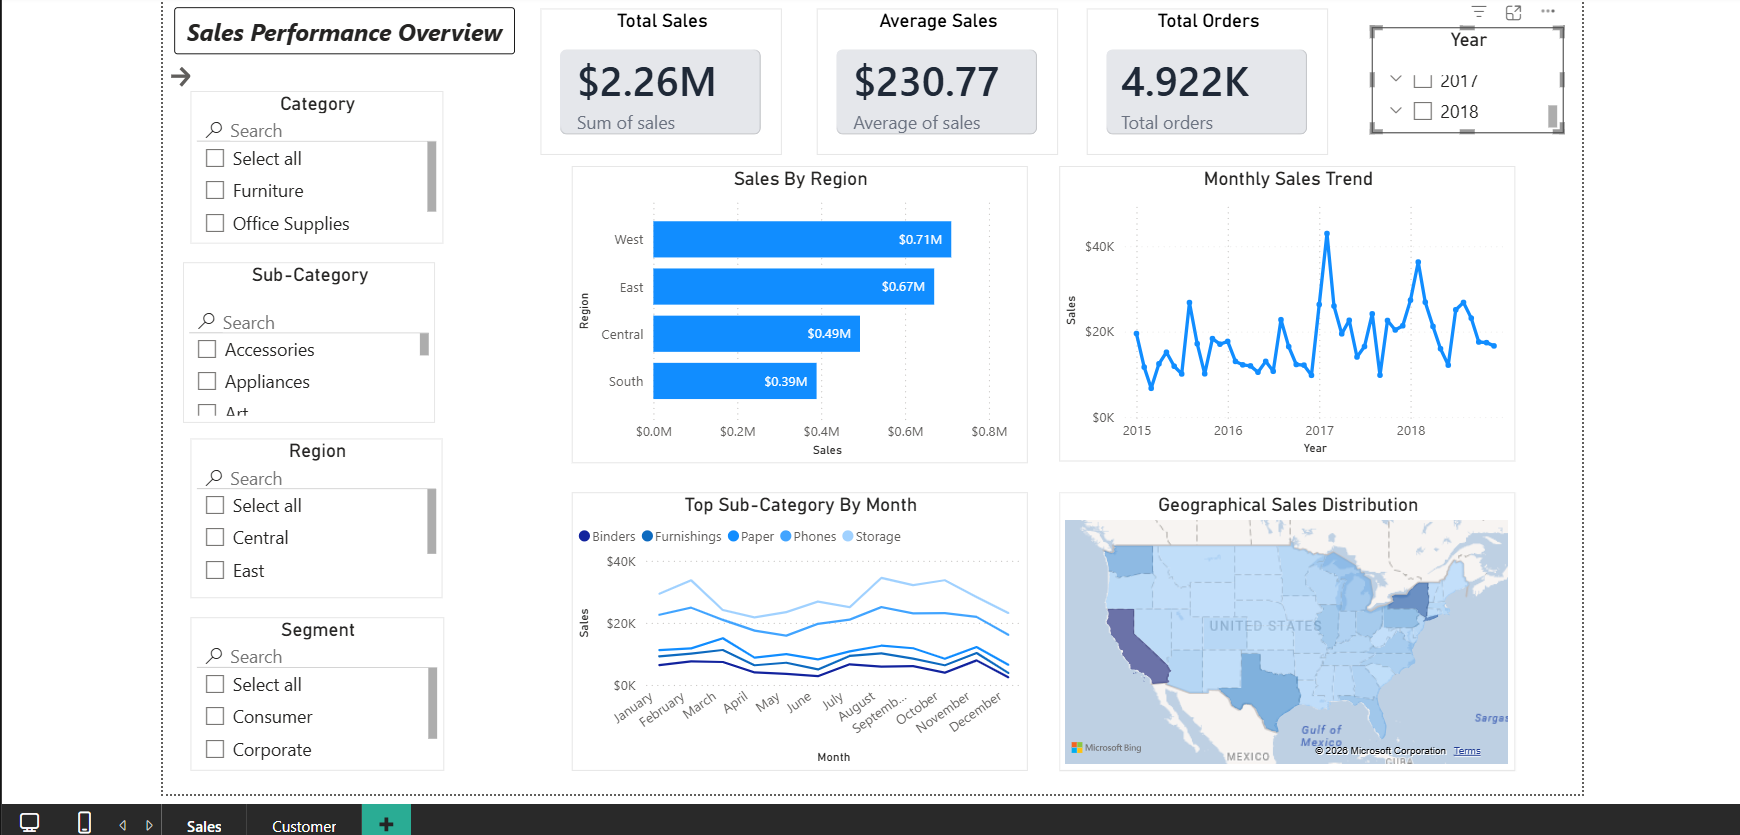

The dashboard page shown, as its layout file describes it:
{"tool":"powerbi","page":{"name":"Sales","canvas":[1280,720],"ordinal":0},"visuals":[{"type":"cardVisual","title":"Average Sales","fields":{"Data":["Avg(sales_data.sales)"]},"box":[590,11.1,217.8,132.2],"z":0},{"type":"cardVisual","title":"Total Orders","fields":{"Data":["Count(sales_data.order_id)"]},"box":[833.3,11.1,217.8,132.2],"z":1000},{"type":"clusteredBarChart","title":"Sales By Region","fields":{"Category":["sales_data.region"],"Y":["Sum(sales_data.sales)1"]},"box":[368.9,153.3,411.1,267.8],"z":2000},{"type":"lineChart","title":"Monthly Sales Trend","fields":{"Y":["Sum(sales_data.sales)"],"Category":["sales_data.order_date.Variation.Date Hierarchy.Year","sales_data.order_date.Variation.Date Hierarchy.Month"]},"box":[808.3,153.7,411.4,266.5],"z":3000},{"type":"slicer","title":"Category","fields":{"Values":["sales_data.category"]},"box":[24.4,85.6,227.8,137.8],"z":4000},{"type":"slicer","title":"Region","fields":{"Values":["sales_data.region"]},"box":[24.3,398.8,227.6,144],"z":5000},{"type":"slicer","title":"Segment","fields":{"Values":["sales_data.segment"]},"box":[24.3,560.2,228.6,138.1],"z":6000},{"type":"slicer","title":"Year","fields":{"Values":["sales_data.order_date.Variation.Date Hierarchy.Year","sales_data.order_date.Variation.Date Hierarchy.Month"]},"box":[1090.3,28.2,173.1,96.3],"z":7000},{"type":"cardVisual","title":"Total Sales","fields":{"Data":["Sum(sales_data.sales)"]},"box":[340,11.1,217.8,132.2],"z":8000},{"type":"slicer","title":"Sub-Category","fields":{"Values":["sales_data.sub-category"]},"box":[17.5,240.2,227.6,144.9],"z":9000},{"type":"actionButton","box":[1.9,59.3,31.1,26.3],"z":10000},{"type":"filledMap","title":"Geographical Sales Distribution","fields":{"Category":["sales_data.state"]},"box":[808.3,447.4,411.4,250.9],"z":11000},{"type":"stackedAreaChart","title":"Top Sub-Category By Month","fields":{"Category":["sales_data.order_date.Variation.Date Hierarchy.Month"],"Y":["Sum(sales_data.sales)"],"Series":["sales_data.sub-category"]},"box":[368.6,447.4,411.4,250.9],"z":12000},{"type":"textbox","box":[10.7,10.7,307.4,42.8],"z":13000}]}

Visuals, with their boxes on the page's 1280x720 design canvas (x1, y1, x2, y2). These are canvas units, not pixel positions in the 1740x835 screenshot, which may show the page scaled, cropped or inside an application window:
"Average Sales" cardVisual: bbox=[590, 11, 808, 143]
"Total Orders" cardVisual: bbox=[833, 11, 1051, 143]
"Sales By Region" clusteredBarChart: bbox=[369, 153, 780, 421]
"Monthly Sales Trend" lineChart: bbox=[808, 154, 1220, 420]
"Category" slicer: bbox=[24, 86, 252, 223]
"Region" slicer: bbox=[24, 399, 252, 543]
"Segment" slicer: bbox=[24, 560, 253, 698]
"Year" slicer: bbox=[1090, 28, 1263, 124]
"Total Sales" cardVisual: bbox=[340, 11, 558, 143]
"Sub-Category" slicer: bbox=[18, 240, 245, 385]
actionButton: bbox=[2, 59, 33, 86]
"Geographical Sales Distribution" filledMap: bbox=[808, 447, 1220, 698]
"Top Sub-Category By Month" stackedAreaChart: bbox=[369, 447, 780, 698]
textbox: bbox=[11, 11, 318, 54]
